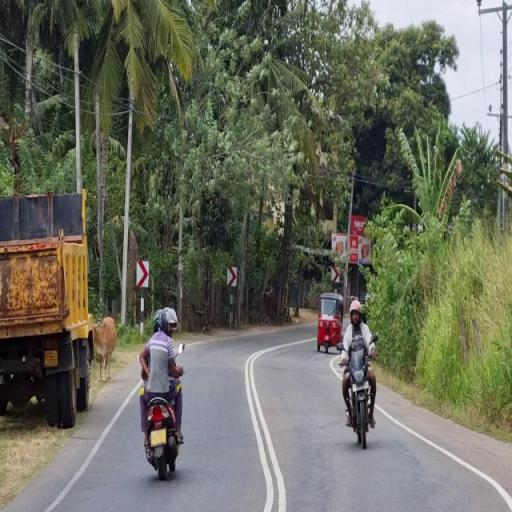double_white_line: (43, 380, 137, 510), (243, 344, 290, 512)
